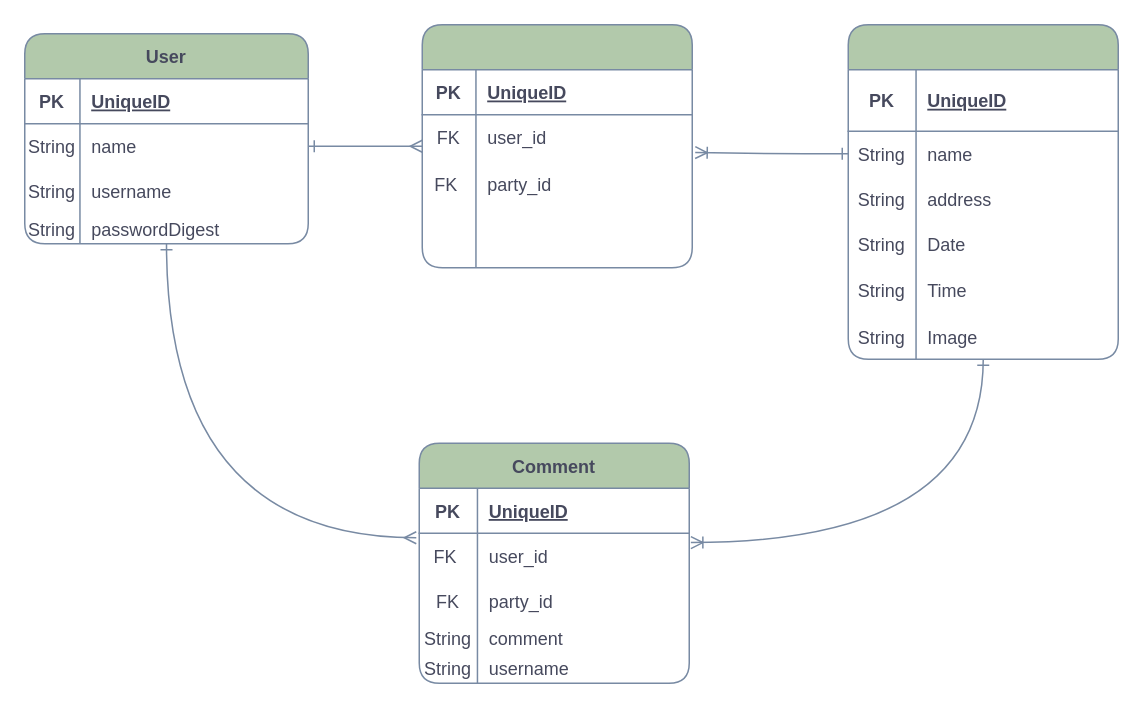
The diagram is 1143 pixels wide and 708 high, and some of its shapes have lost their labels. Here are the shapes that lost their labels. From the top down, the box of each, then its label:
(421, 23, 692, 268): User_Party
(847, 23, 1118, 359): Party
